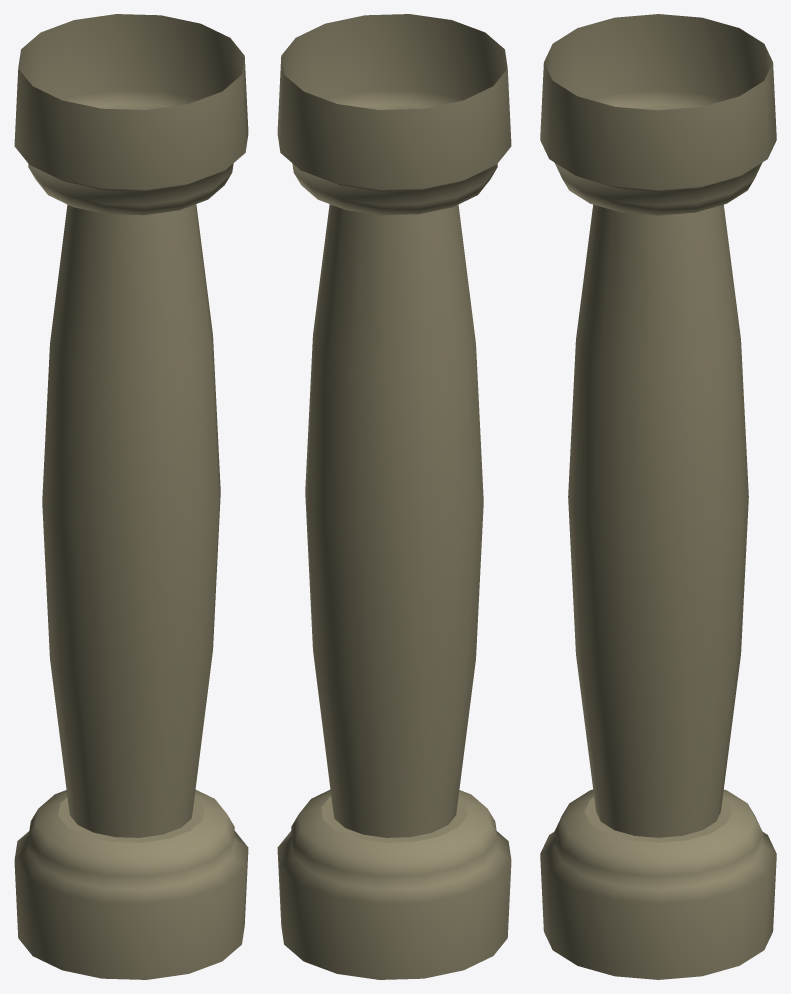
File: Pillar 2.fbx
3 views of the same model, side by side, from view 1: azimuth 30°, elevation 25°; view 2: azimuth 150°, elevation 25°; view 3: azimuth 270°, elevation 25° (orthographic).
Parts seen in each view (by area): view 1: pCylinder5; view 2: pCylinder5; view 3: pCylinder5.
Boxes of the visible parts, x1,y1,x2,y2 form: pCylinder5: (14, 14, 248, 979); pCylinder5: (277, 14, 511, 979); pCylinder5: (540, 14, 776, 979).
Size of the model in its own units: 37.2 by 151 by 37.35.
